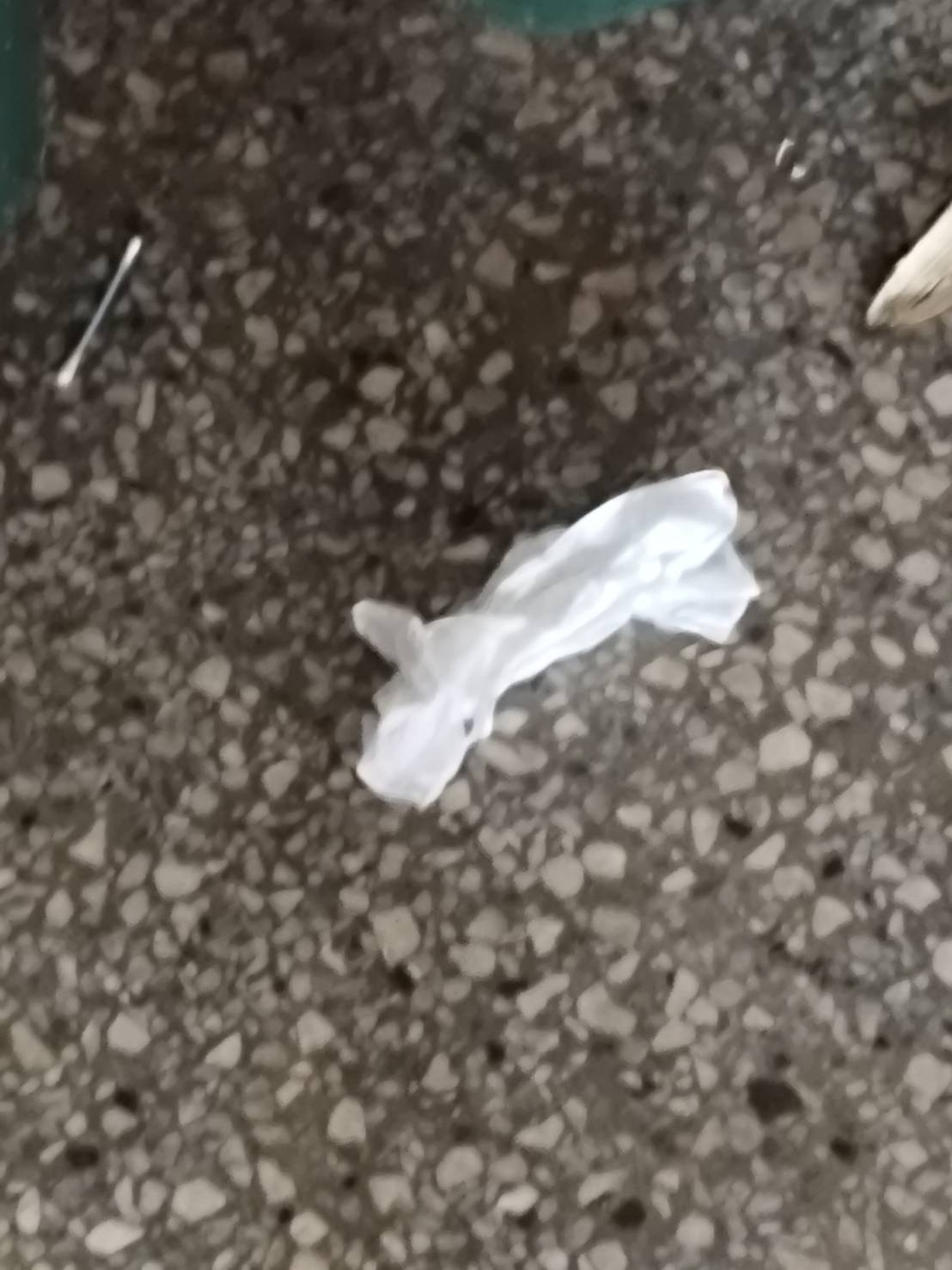General waste: (301, 350, 776, 889), (34, 212, 209, 439), (831, 161, 952, 367)
